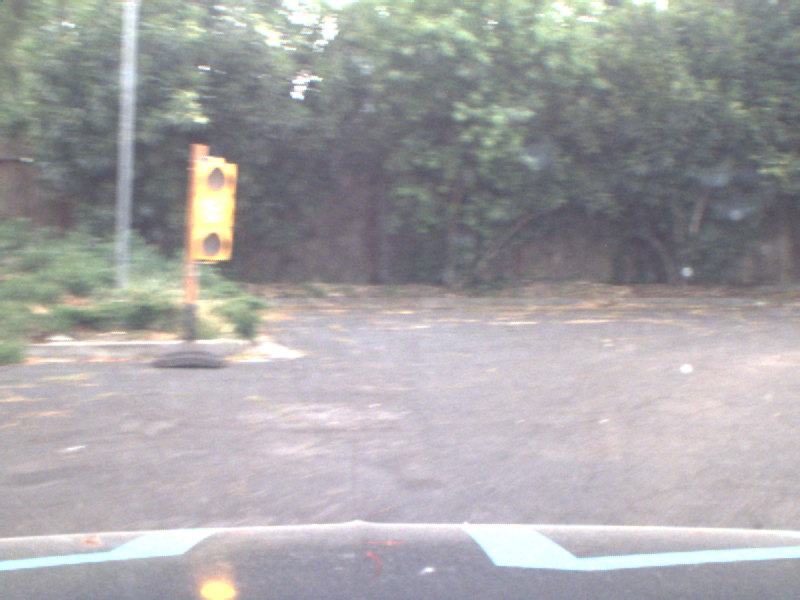Yellow: (191, 158, 230, 260)
